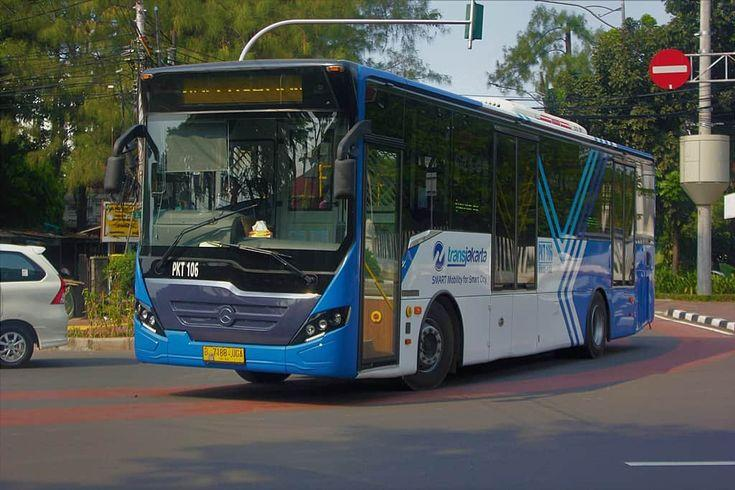mobil: (0, 239, 73, 375)
transjakarta: (105, 57, 657, 390)
